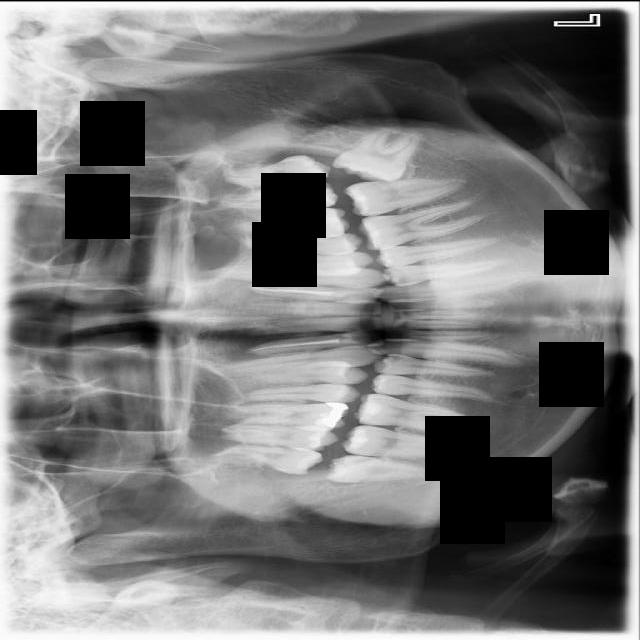3M ESPE Implant: (211, 438, 325, 477)
52: (293, 400, 352, 432)
73: (246, 333, 343, 356), (246, 281, 344, 302), (550, 43, 574, 55)
BioHorizons Implant: (208, 179, 341, 209)
BioLife Implant: (220, 151, 334, 189)
Biomet 3i Implant: (326, 118, 425, 187)
Blue Sky Bio Implant: (341, 165, 464, 219)
Caries: (218, 421, 340, 451)
Implant: (338, 420, 471, 465)
Keystone Dental Implant: (324, 453, 432, 482)
